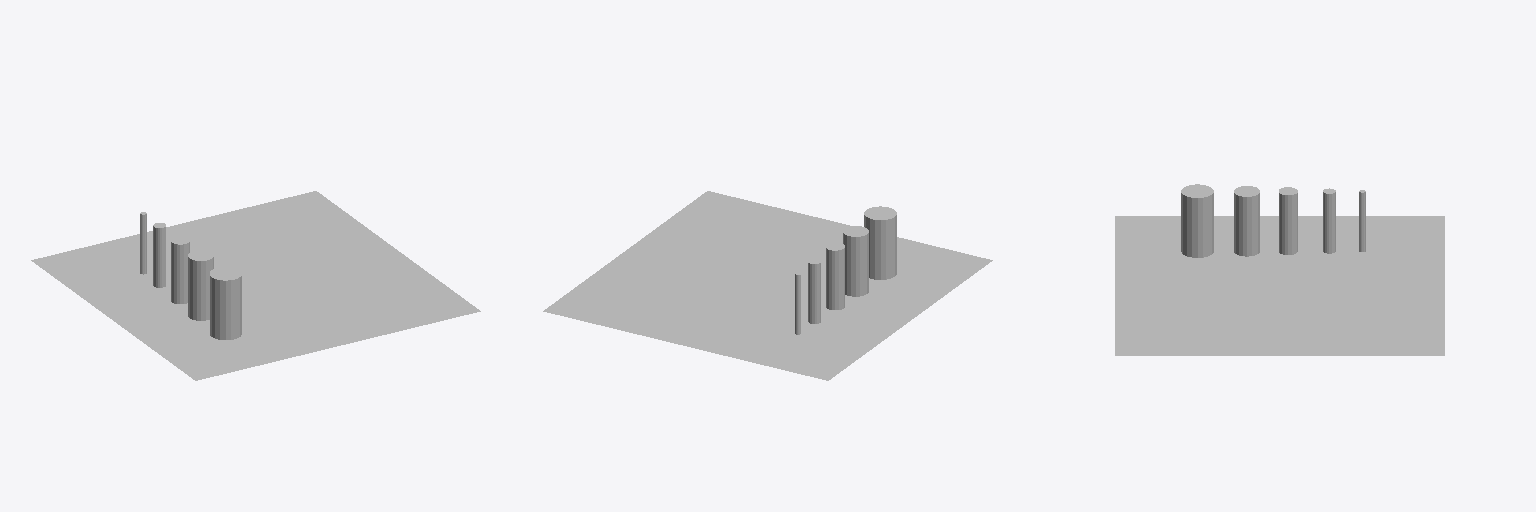
The model's file is cylinder_setup.obj.
The picture shows the model from 3 angles: view 1: azimuth 30°, elevation 25°; view 2: azimuth 150°, elevation 25°; view 3: azimuth 270°, elevation 25°; orthographic projection.
Visible parts, largest first — view 1: Plane01, Cylinder02, Cylinder01, Cylinder03, Cylinder04; view 2: Plane01, Cylinder02, Cylinder01, Cylinder03, Cylinder04; view 3: Plane01, Cylinder02, Cylinder01, Cylinder03, Cylinder04.
Boxes of the visible parts, x1,y1,x2,y2 form: Plane01: [31, 191, 480, 380]; Cylinder02: [210, 267, 241, 339]; Cylinder01: [188, 250, 213, 320]; Cylinder03: [171, 236, 189, 303]; Cylinder04: [153, 223, 165, 287]; Plane01: [543, 191, 992, 380]; Cylinder02: [864, 206, 896, 279]; Cylinder01: [843, 226, 868, 296]; Cylinder03: [826, 242, 844, 309]; Cylinder04: [808, 259, 820, 323]; Plane01: [1115, 216, 1444, 355]; Cylinder02: [1181, 184, 1213, 257]; Cylinder01: [1234, 186, 1259, 256]; Cylinder03: [1279, 187, 1297, 254]; Cylinder04: [1323, 188, 1335, 253].
Size of the model in its own units: 200 by 40 by 200.